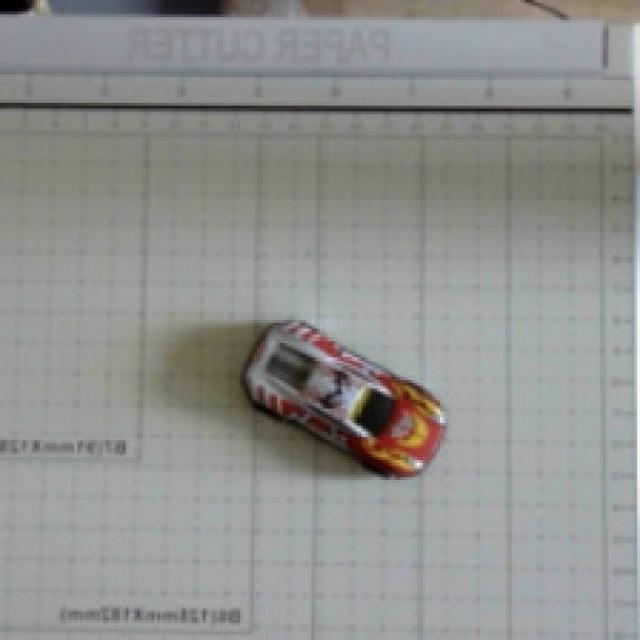Red Car: (218, 259, 498, 538)
